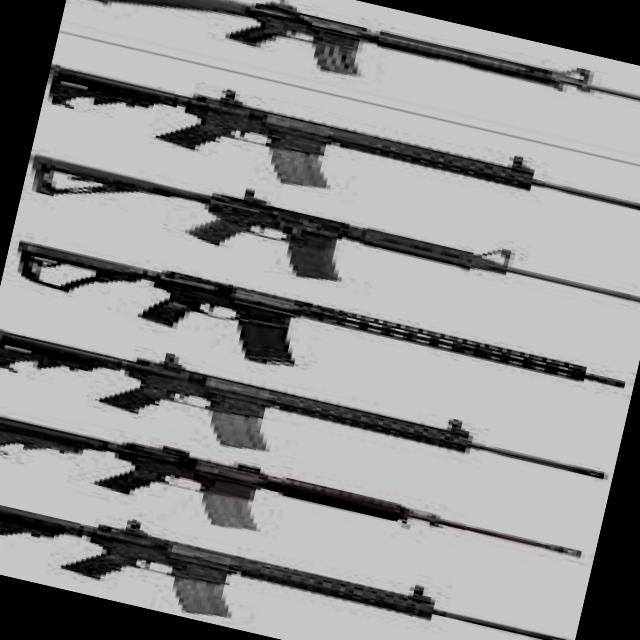long weapon: (2, 222, 632, 440), (39, 26, 639, 250), (20, 134, 639, 339), (0, 387, 566, 600), (0, 286, 550, 505), (60, 0, 639, 159), (0, 476, 559, 639)
